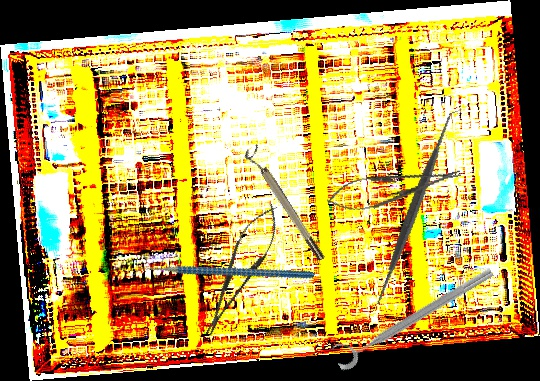Chopper: (128, 211, 315, 340)
Fixation Ring: (328, 255, 497, 373), (242, 143, 327, 266)
Needle Holder: (192, 197, 289, 343), (324, 158, 464, 218)
Spatula Surgical: (314, 108, 515, 309)
